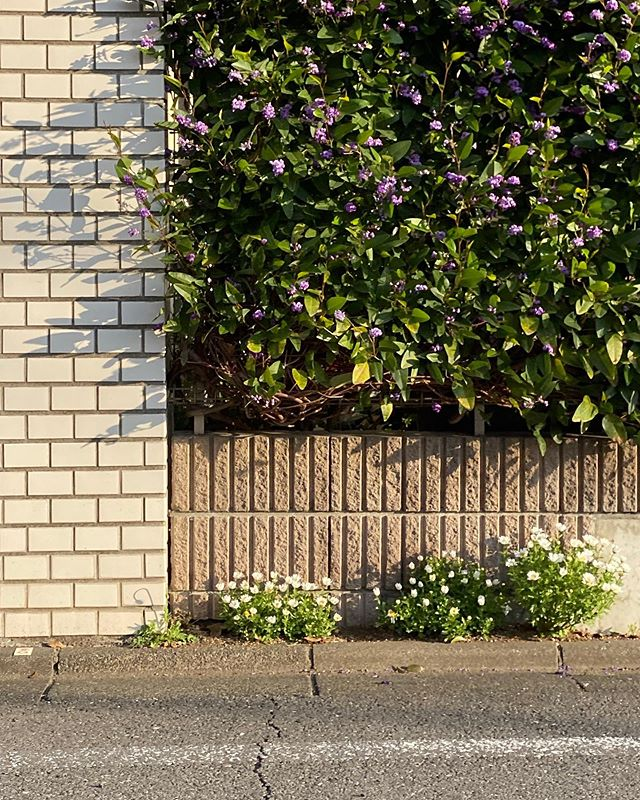vegetation: (178, 1, 640, 405)
wall: (1, 1, 161, 647)
